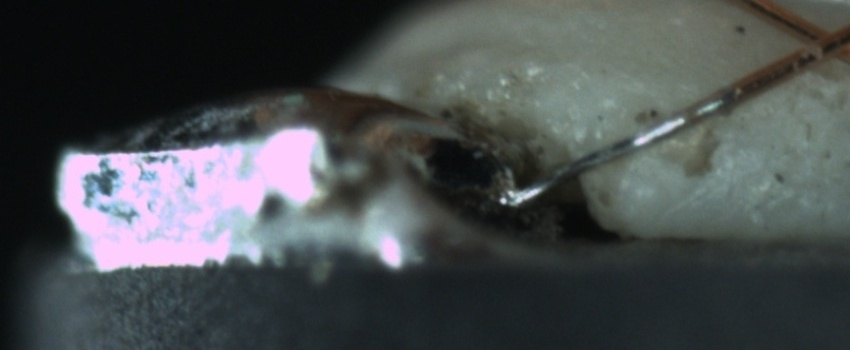CL: (782, 13, 848, 72)
TS: (523, 85, 743, 198)
TTCW: (506, 58, 768, 207)
